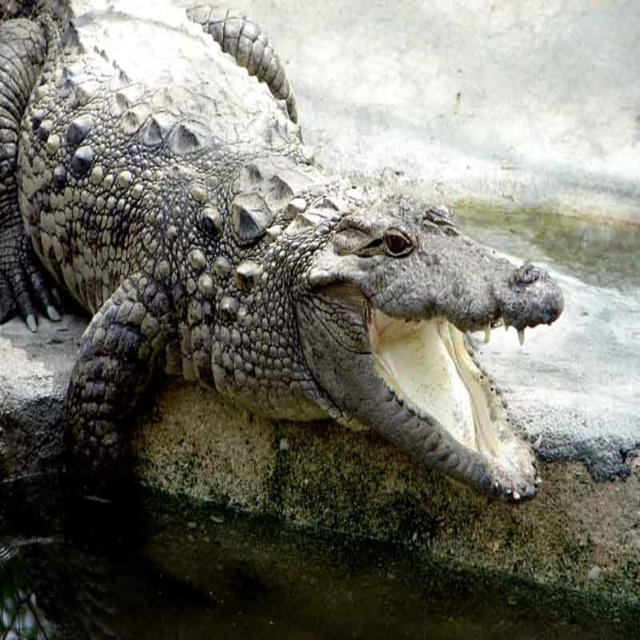Crocodile: (0, 0, 564, 505)
